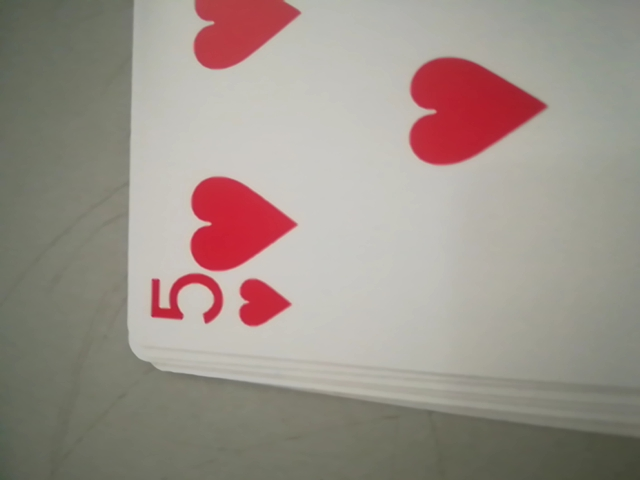hx 5: (145, 268, 300, 341)
